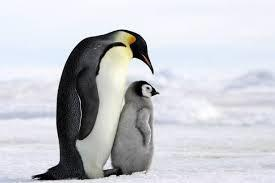emporer: (33, 23, 171, 182)
